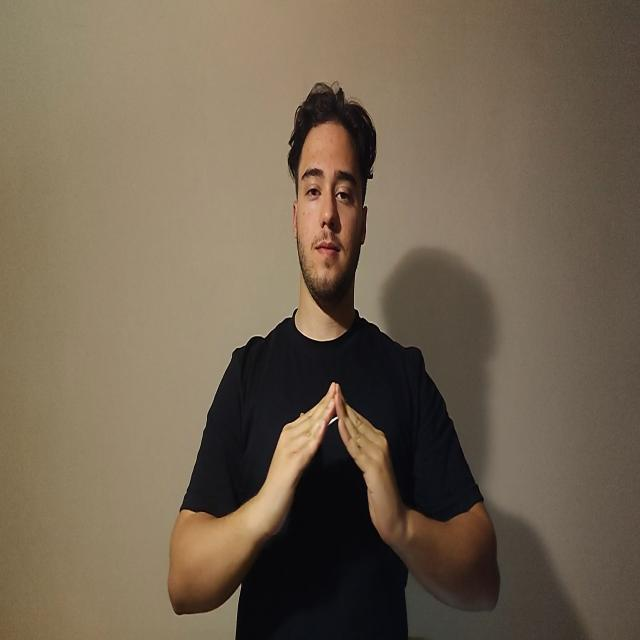house: (261, 386, 402, 553)
